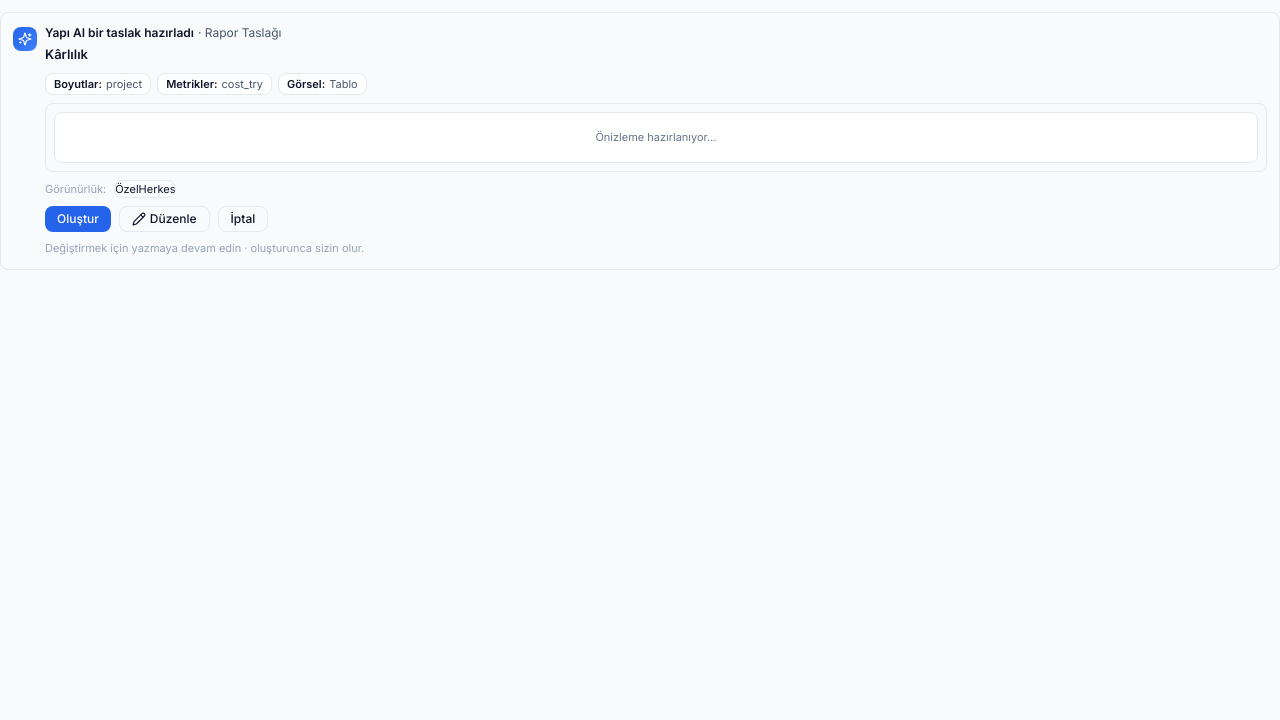
ProposedActionCard draft (CR-039) › İptal dismisses the draft (no write) and notifies the page
Click the button "İptal" at [243, 219], box top-left (218, 206), bottom-right (268, 232)
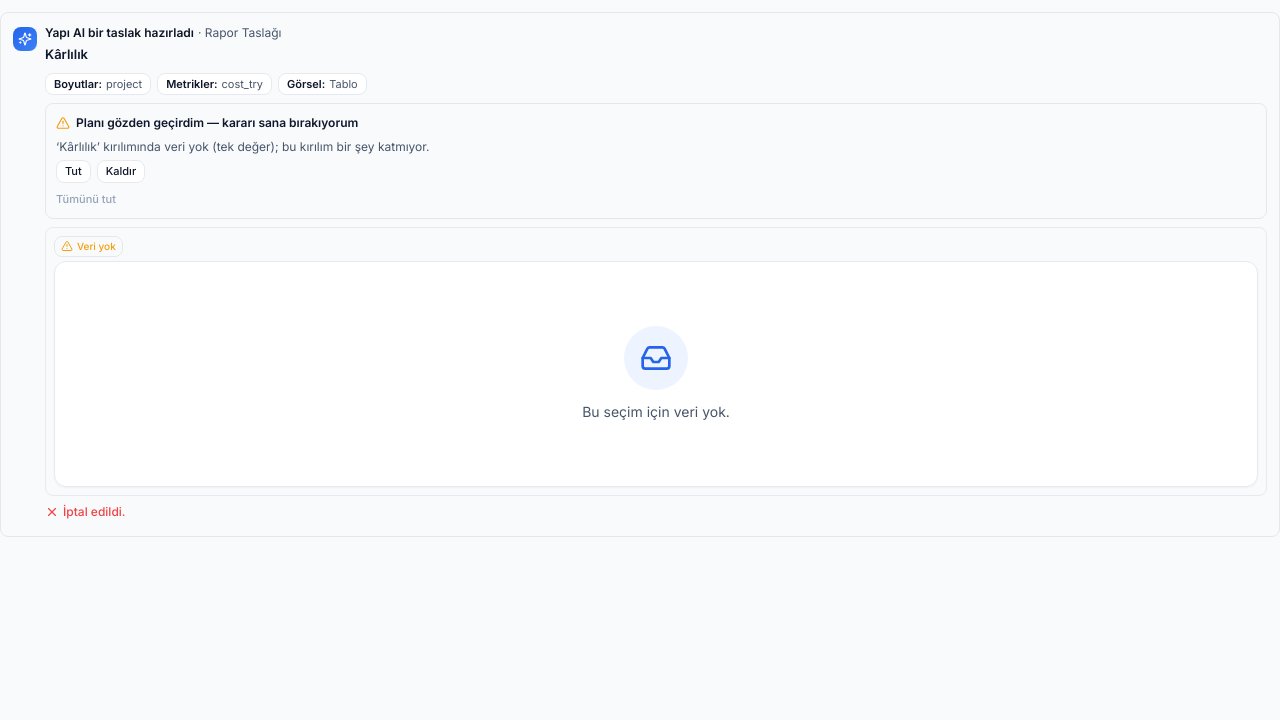
Result: the text "İptal edildi." is shown at top-left (45, 504), bottom-right (126, 520)
